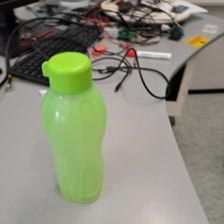bottle: (38, 51, 109, 209)
